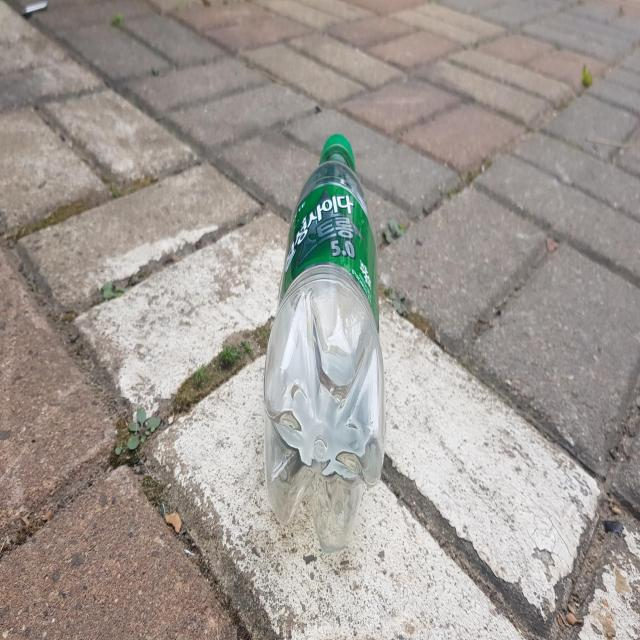plastic: (264, 132, 386, 552)
